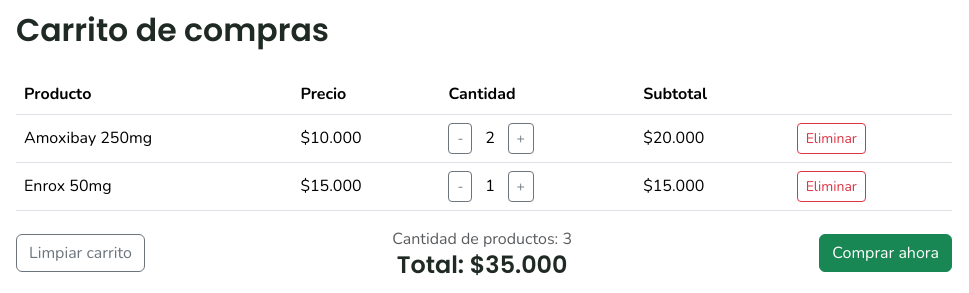
it: Carrito (página) › el botón - con cantidad 1 elimina la fila
What coordinates should you click on to do the following:
click the button named "Disminuir cantidad de Enrox 50mg"
I would click on:
 (460, 186)
Its box is [448,171,472,202].
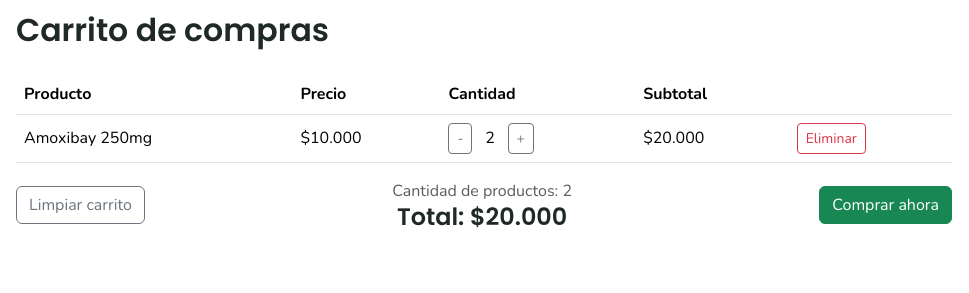
Expected: the text "Enrox 50mg" is gone
Expected: the heading with test id "total-carrito" reads "Total: $20.000", [392,203,572,232]
